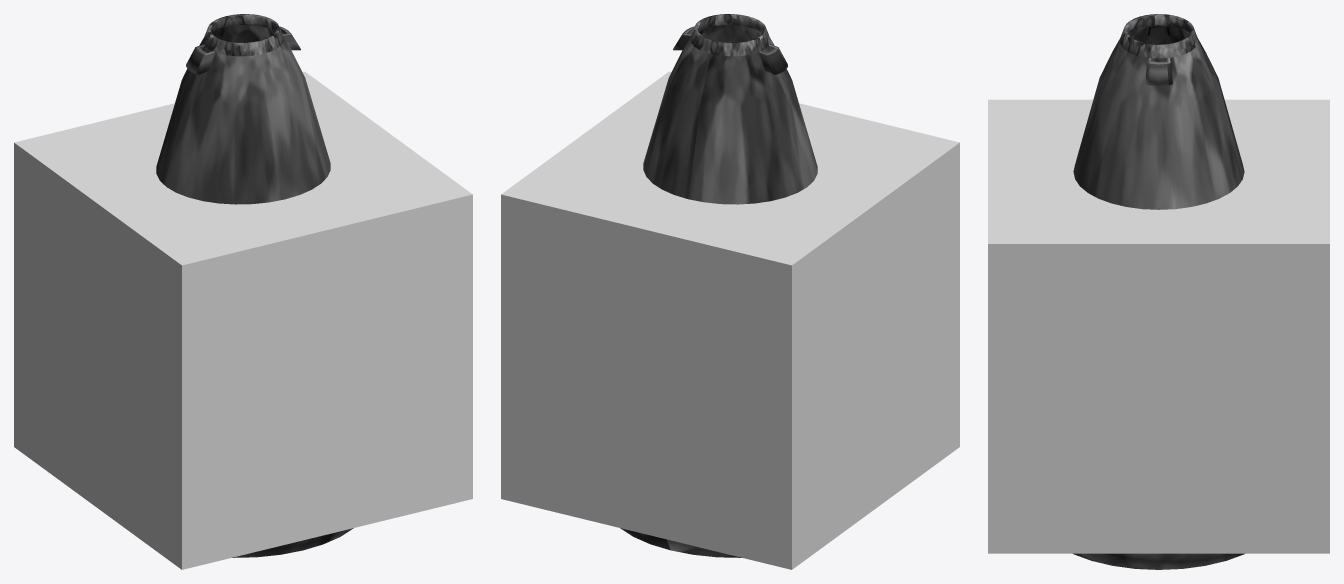
File: foodCube.glb
3 renders of one model, left to right at view 1: azimuth 30°, elevation 25°; view 2: azimuth 150°, elevation 25°; view 3: azimuth 270°, elevation 25°, orthographic.
Parts seen in each view (by area): view 1: Cube, Cylinder.001; view 2: Cube, Cylinder.001; view 3: Cube, Cylinder.001.
Boxes of the visible parts, bbox=[...] form: Cube: bbox=[14, 71, 472, 569]; Cylinder.001: bbox=[156, 14, 353, 557]; Cube: bbox=[501, 71, 959, 569]; Cylinder.001: bbox=[620, 14, 817, 557]; Cube: bbox=[988, 99, 1329, 553]; Cylinder.001: bbox=[1073, 14, 1244, 569].
Size of the model in its own units: 0.6058 by 0.9508 by 0.6058.
2 materials, 1 textured.
